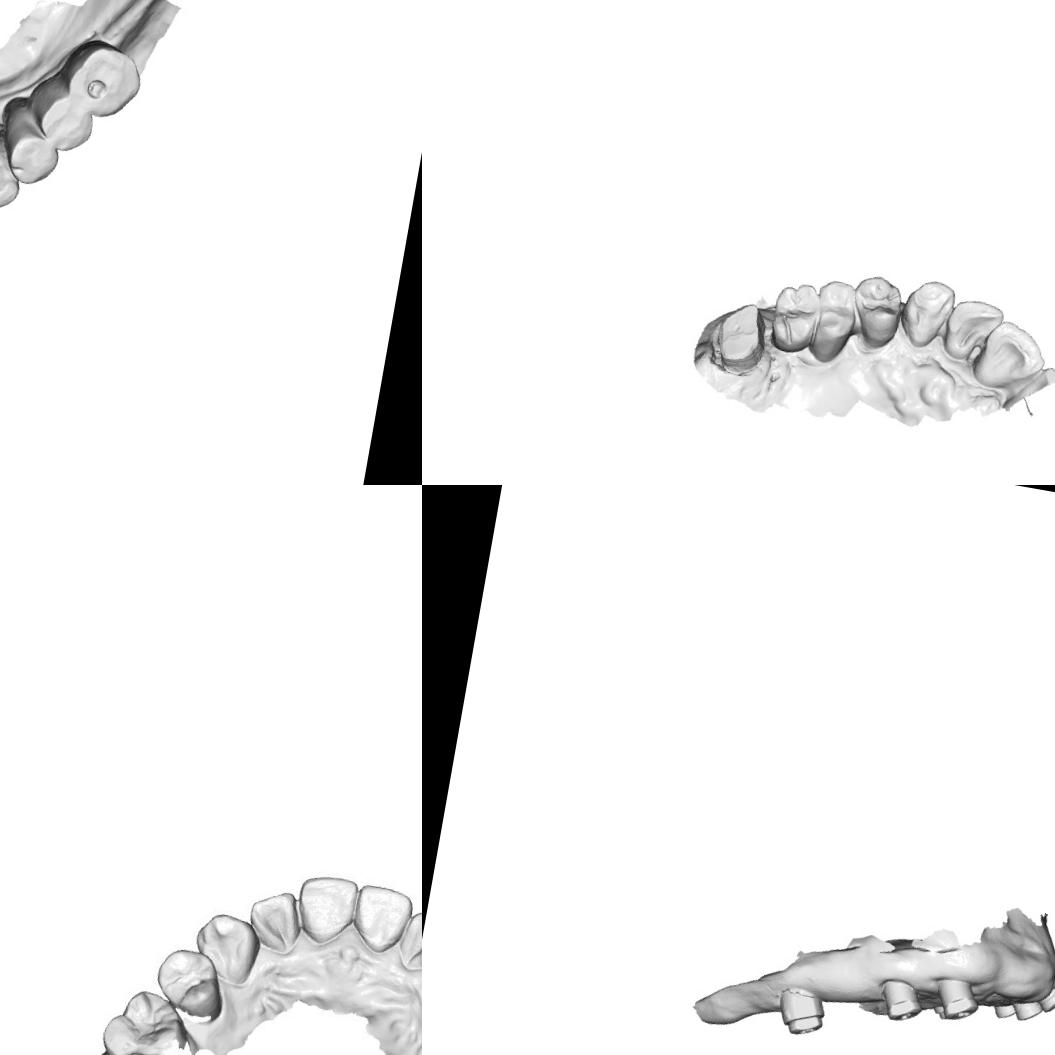canine: (187, 905, 266, 985), (893, 272, 960, 354), (0, 150, 27, 216)
crown: (706, 295, 772, 376)
implant: (772, 984, 830, 1040), (928, 973, 984, 1026), (875, 974, 927, 1026), (1009, 996, 1044, 1024), (1034, 975, 1055, 1015), (989, 999, 1017, 1020)
incisor: (968, 313, 1052, 397), (288, 870, 363, 946), (346, 878, 416, 954), (239, 885, 309, 958), (940, 293, 1008, 367), (393, 905, 422, 973)
molar: (94, 983, 190, 1055), (62, 41, 148, 120), (764, 276, 824, 358)
premolar: (150, 943, 232, 1020), (802, 275, 864, 368), (844, 269, 908, 354), (33, 86, 103, 156), (2, 124, 66, 189)
